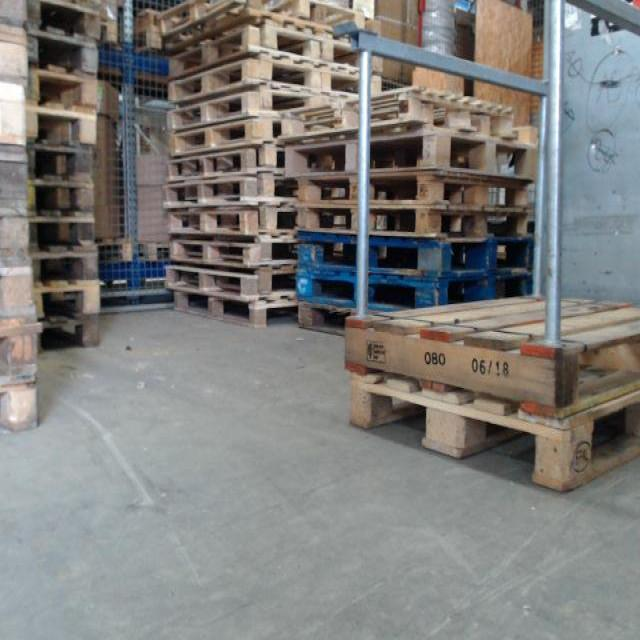pallet: (346, 365, 640, 493), (342, 288, 640, 406), (286, 138, 536, 178), (282, 93, 508, 137), (172, 58, 367, 102), (299, 237, 534, 273), (298, 180, 533, 213), (172, 42, 359, 79), (168, 87, 310, 133), (296, 274, 529, 301), (299, 213, 533, 237), (168, 293, 294, 330), (165, 144, 286, 182), (173, 120, 285, 160), (167, 208, 300, 239), (167, 239, 295, 270), (165, 182, 300, 208), (20, 102, 99, 146), (166, 270, 295, 296), (30, 27, 101, 74), (26, 147, 94, 185), (26, 248, 101, 282), (36, 282, 101, 321), (0, 322, 38, 387), (3, 213, 39, 277), (20, 74, 101, 102), (2, 152, 39, 213), (36, 321, 104, 353), (26, 216, 94, 248), (26, 185, 94, 216), (2, 79, 30, 150), (297, 302, 355, 334), (30, 1, 101, 27), (0, 387, 43, 429), (1, 20, 30, 79), (3, 277, 38, 322)
